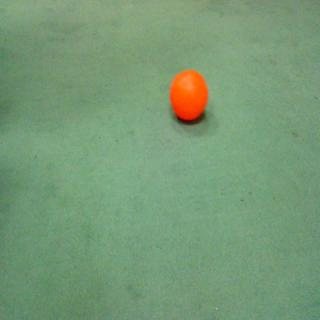orange: (165, 67, 211, 131)
